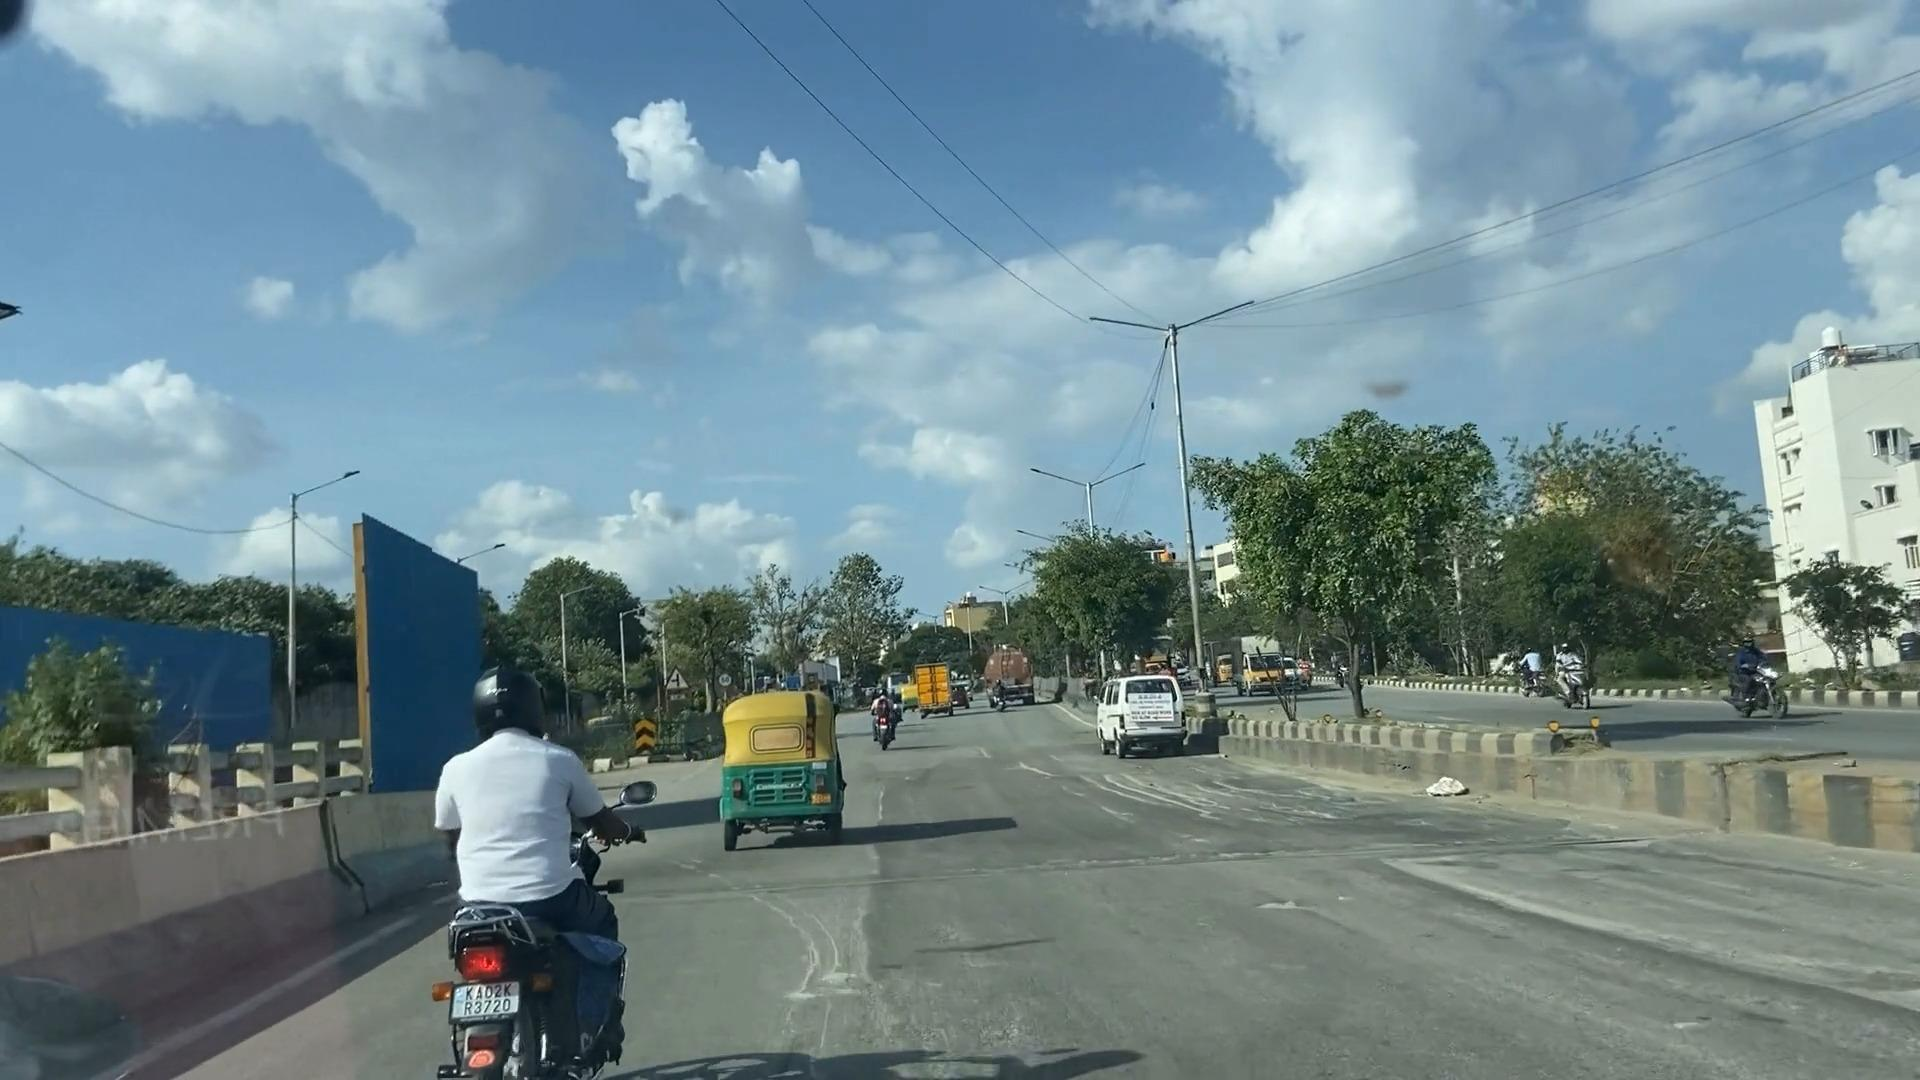RoadDamages: (793, 847, 955, 1060), (1081, 753, 1328, 858)
